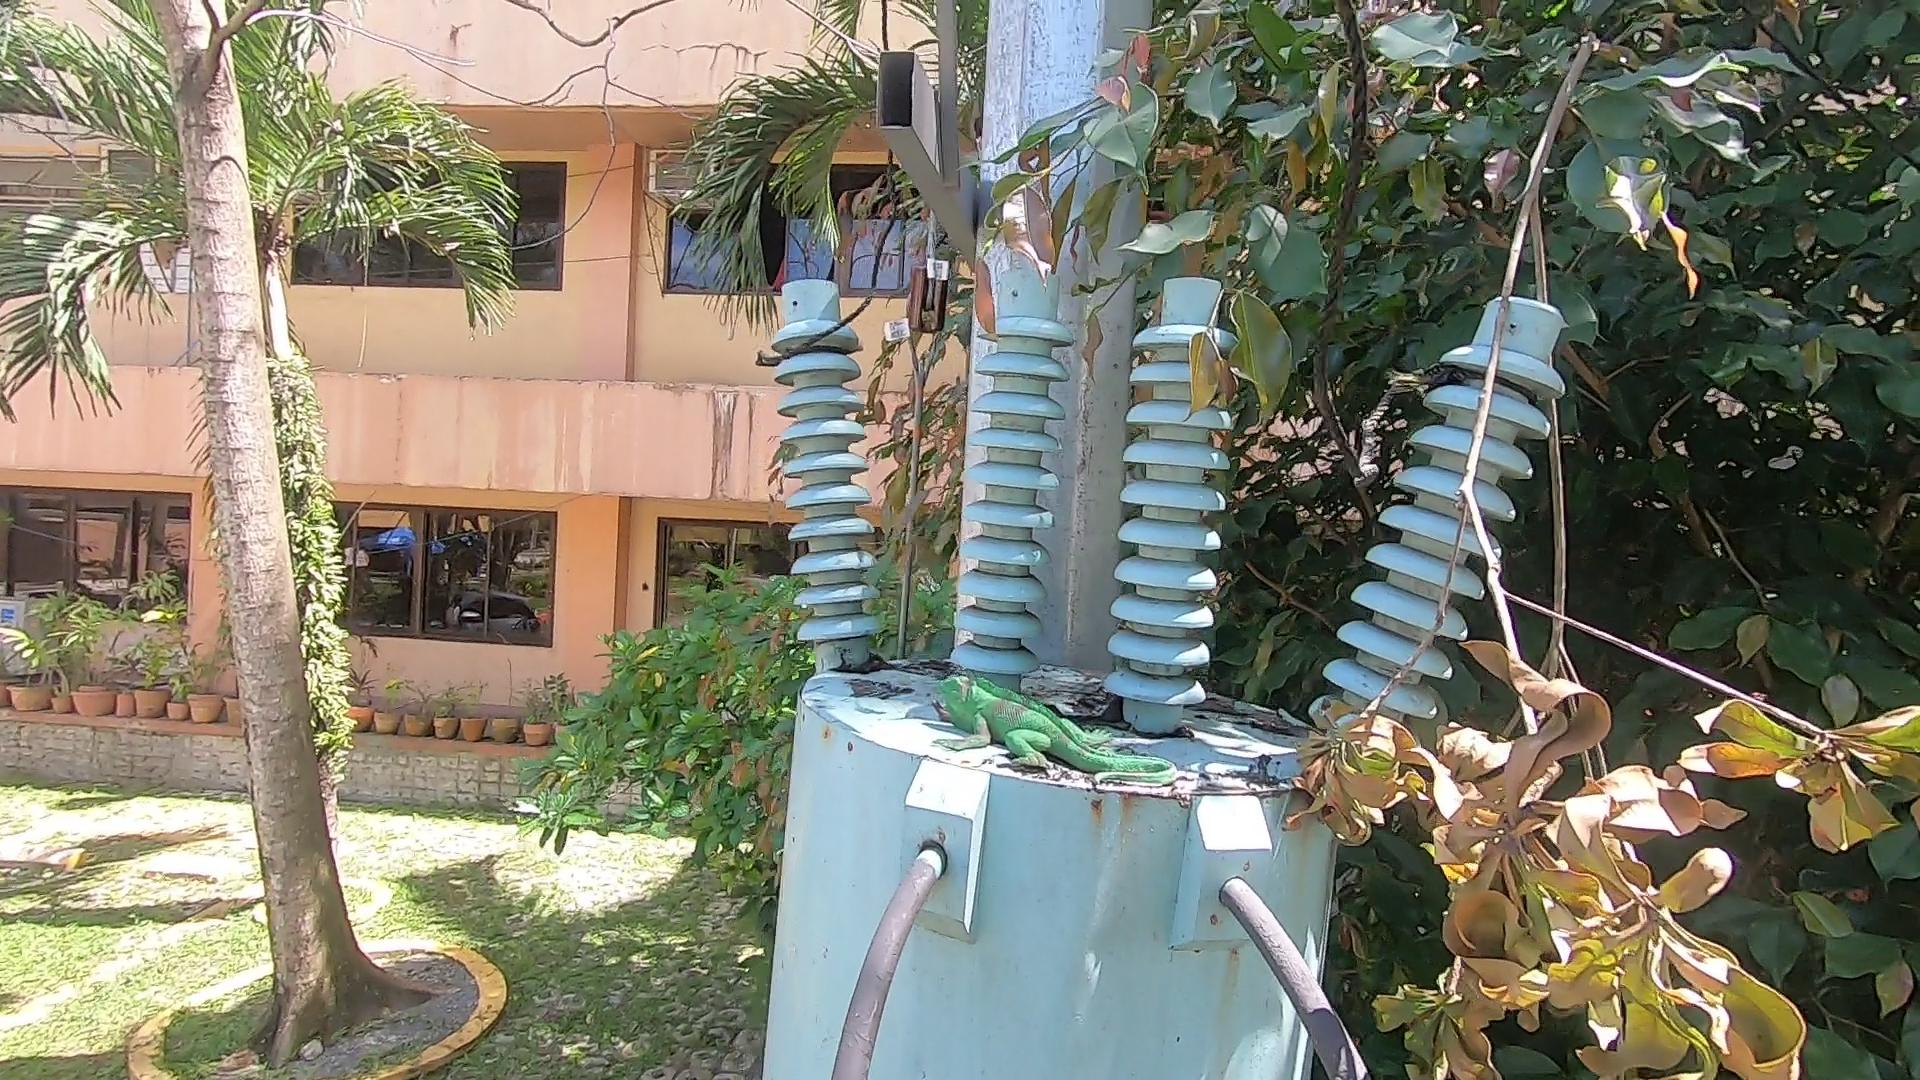branch with leaves: (1292, 9, 1912, 1073)
leaf: (1096, 702, 1124, 728)
